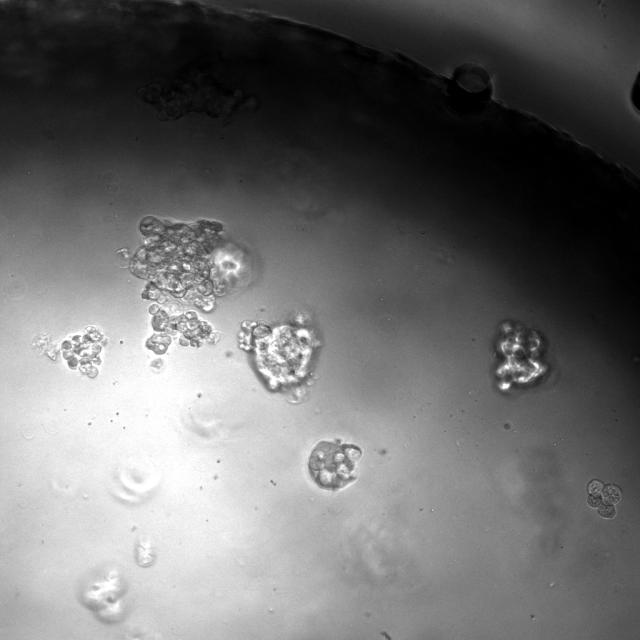organoid: (129, 215, 253, 354), (238, 309, 321, 401), (32, 325, 107, 377), (495, 321, 548, 391), (78, 565, 128, 623), (309, 440, 362, 490), (587, 478, 622, 519), (134, 534, 157, 567)
